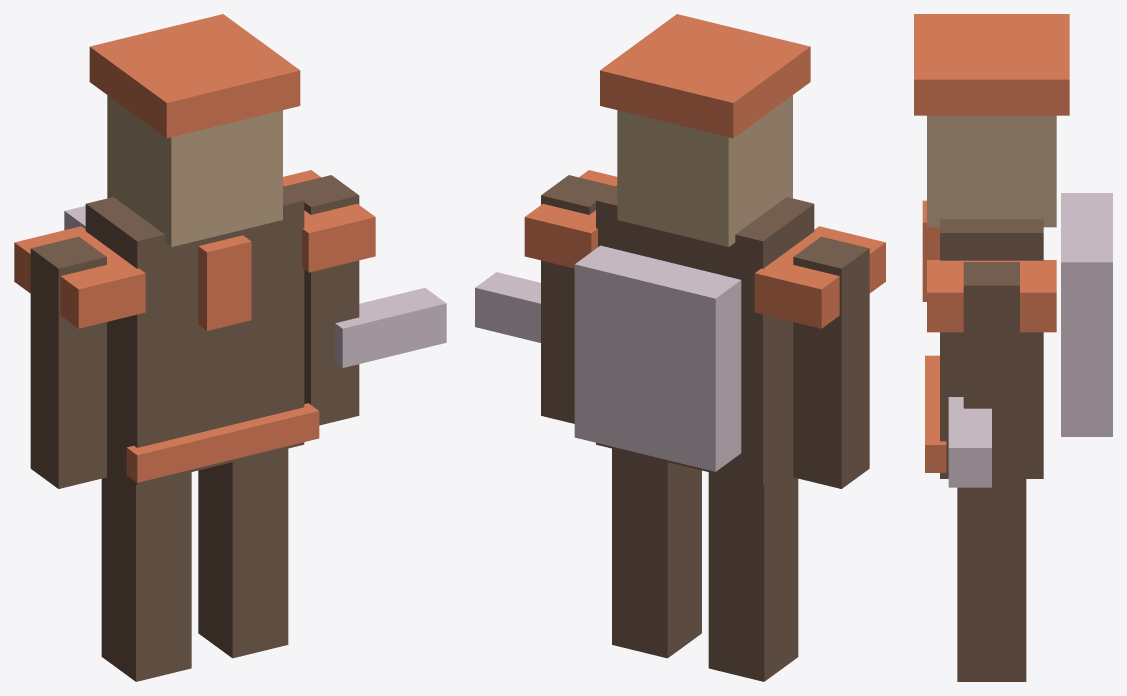
Rendered from 04_eryk_dubwater_tamer_of_harmonic.glb.
3 views of the same model, side by side, from view 1: azimuth 30°, elevation 25°; view 2: azimuth 150°, elevation 25°; view 3: azimuth 270°, elevation 25° (orthographic).
Parts seen in each view (by area): view 1: Eryk Dubwater, Tamer of Harmonic; view 2: Eryk Dubwater, Tamer of Harmonic; view 3: Eryk Dubwater, Tamer of Harmonic.
Part boxes in pixels (left/top/right/bottom): Eryk Dubwater, Tamer of Harmonic: left=14, top=14, right=446, bottom=681; Eryk Dubwater, Tamer of Harmonic: left=475, top=14, right=885, bottom=681; Eryk Dubwater, Tamer of Harmonic: left=914, top=14, right=1112, bottom=681.
Bounding box in the file's own units: 1.12 × 1.67 × 0.5036.
